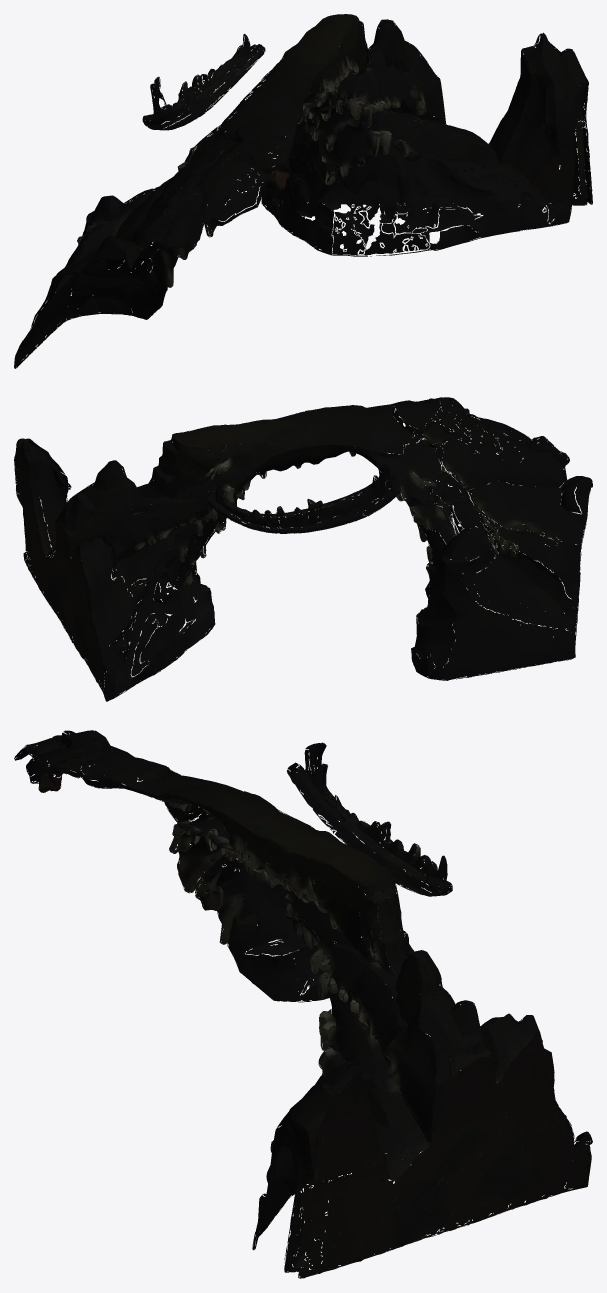
Rendered from cato-bridge-arch.hq.glb.
3 renders of one model, top to bottom at view 1: azimuth 30°, elevation 25°; view 2: azimuth 150°, elevation 25°; view 3: azimuth 270°, elevation 25°, orthographic. The views are drawn at different scales.
Visible parts, largest first — view 1: low; view 2: low; view 3: low.
Part boxes in pixels (x1,y1,x2,y2): low: (14, 14, 592, 368); low: (14, 397, 592, 701); low: (14, 730, 592, 1278).
Bounding box in the file's own units: 0.9427 × 0.3768 × 0.6169.
1 material, 1 textured.
